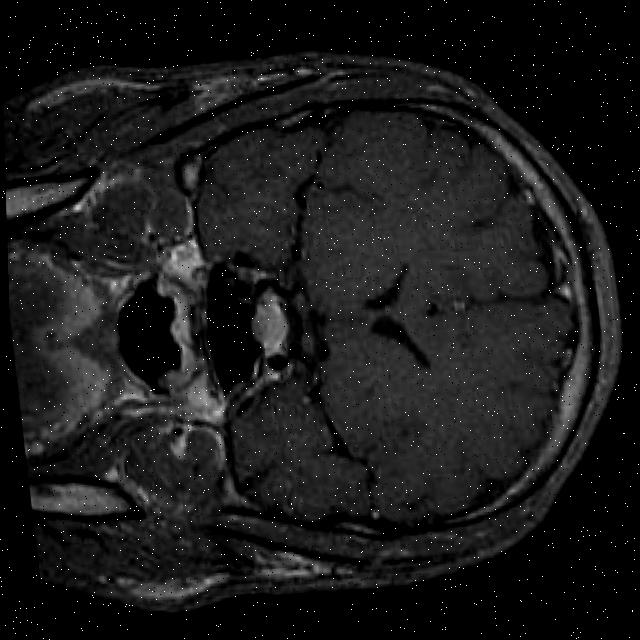Pituitary: (243, 286, 295, 360)
